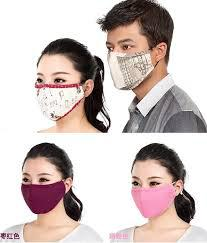OK: (105, 37, 157, 90), (34, 73, 81, 120), (22, 171, 69, 215), (133, 173, 178, 217)
